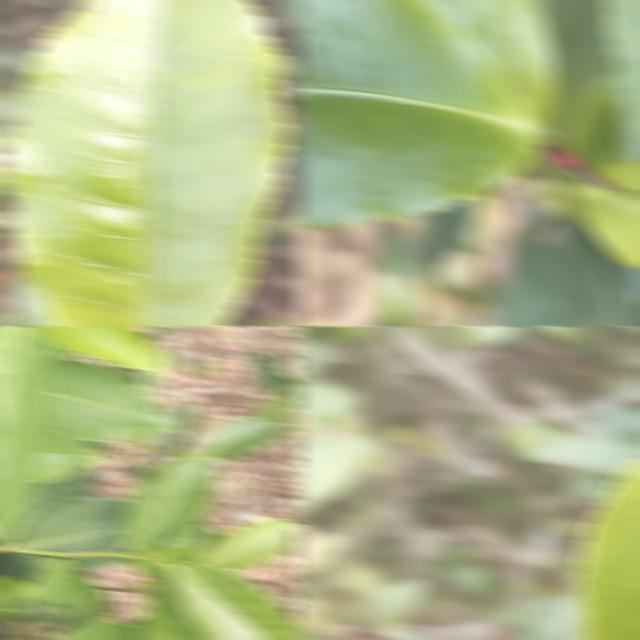Leaf: (4, 0, 289, 326), (296, 0, 539, 227), (410, 0, 555, 124), (493, 217, 627, 326), (44, 355, 183, 440), (0, 326, 54, 543), (170, 562, 304, 640), (571, 157, 640, 267), (10, 496, 132, 552), (39, 326, 166, 374), (603, 0, 640, 161), (369, 224, 426, 326), (199, 517, 304, 569), (137, 563, 202, 640), (31, 430, 112, 482), (193, 416, 289, 458), (56, 574, 113, 624), (28, 558, 80, 611), (154, 399, 201, 455), (12, 276, 60, 326), (247, 345, 287, 396), (168, 525, 206, 562), (0, 574, 36, 609), (253, 399, 293, 424), (71, 555, 115, 568), (15, 553, 56, 566), (284, 387, 304, 409), (146, 326, 174, 333)
